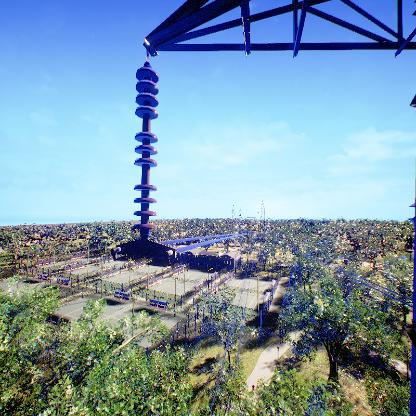insulator: (130, 64, 162, 234)
